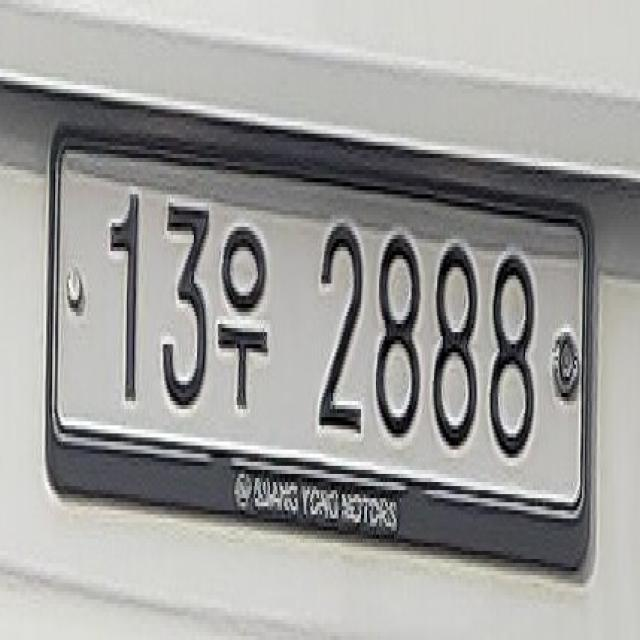1: (105, 182, 148, 424)
2: (313, 205, 367, 442)
3: (158, 186, 214, 420)
8: (430, 222, 480, 463), (487, 233, 537, 468), (374, 218, 425, 444)
license_plate: (45, 132, 602, 574)
u: (214, 208, 276, 432)
